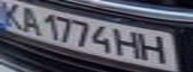1: (36, 11, 60, 39)
4: (90, 24, 115, 54)
7: (69, 18, 93, 47), (51, 15, 75, 43)
A: (15, 4, 45, 34)
H: (139, 32, 175, 65), (115, 27, 145, 60)
K: (0, 0, 30, 29)
